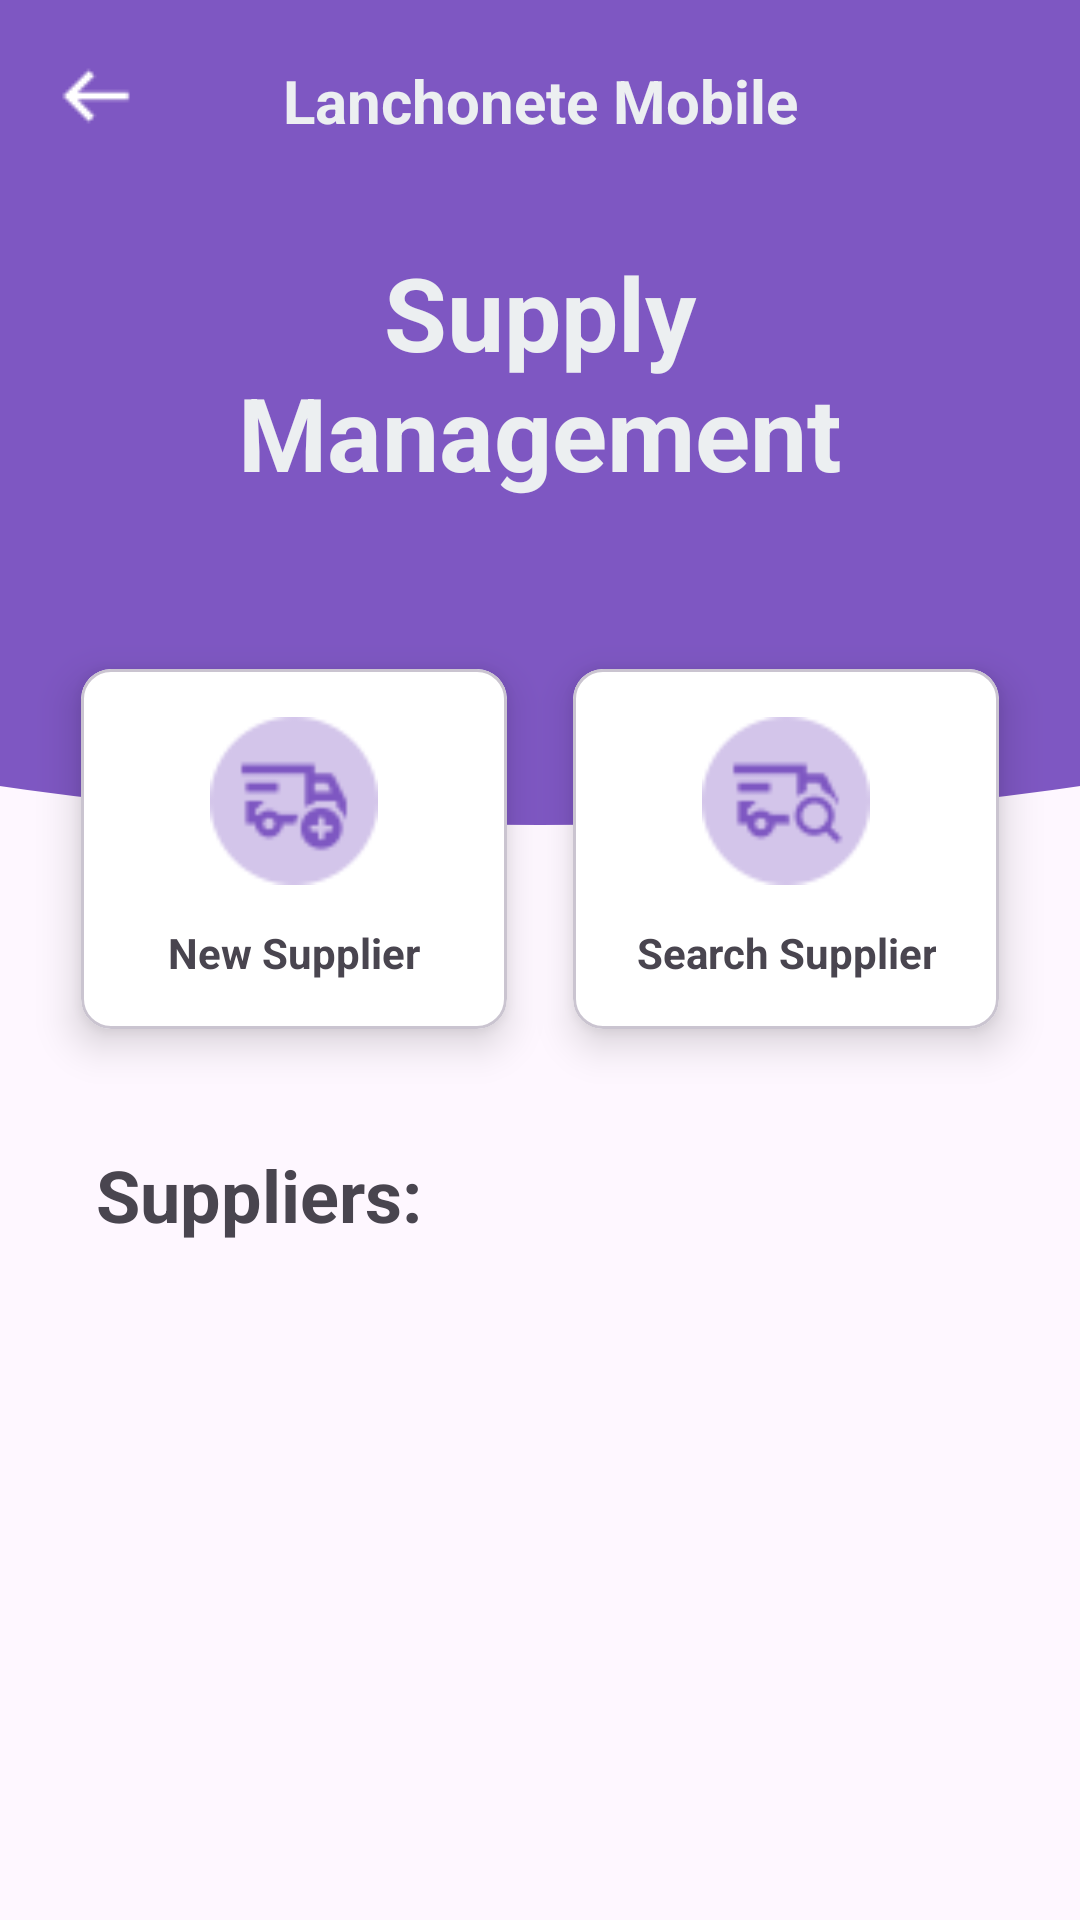

Named icons in this screenshot (1080px×1920px) and their bounding boxes, {"x1": x1, "y1": y1, "x2": x2, "y2": y2}:
back resize: {"x1": 63, "y1": 69, "x2": 130, "y2": 123}
